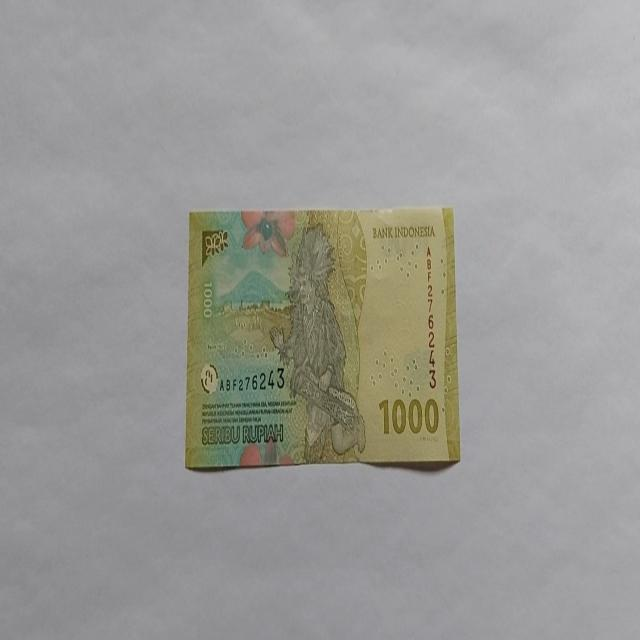seribu rupiah kertas: (184, 205, 460, 470)
